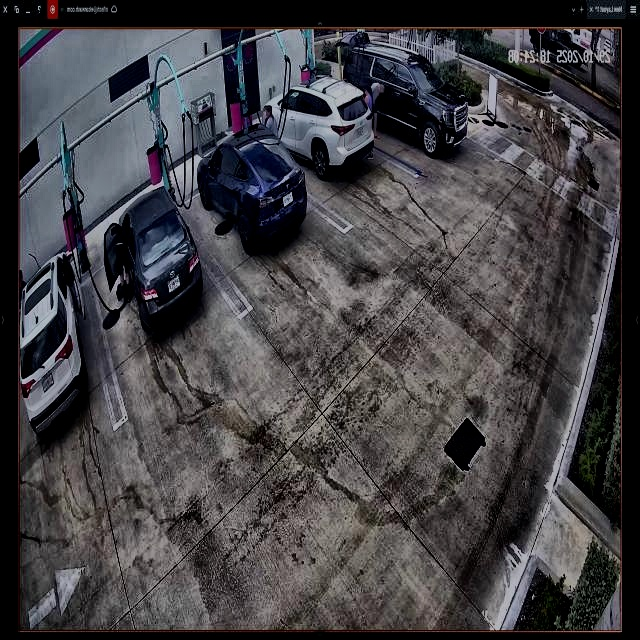Car: (105, 186, 202, 330), (197, 129, 305, 251), (262, 77, 373, 175)
